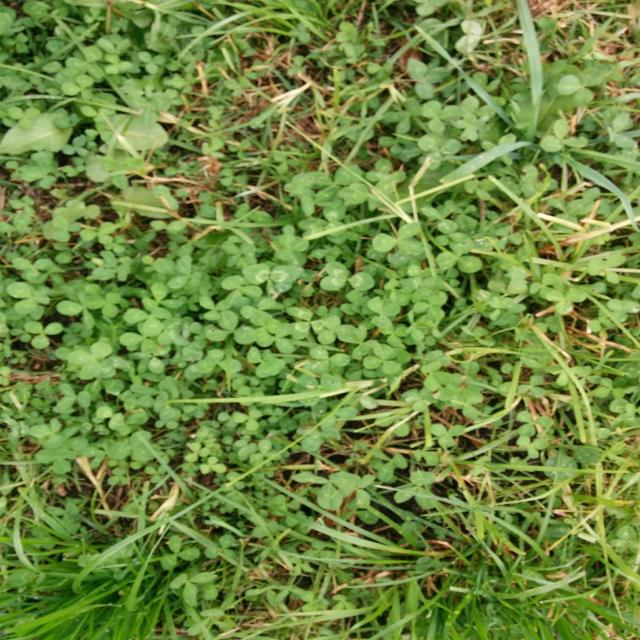Four Leaf Clover: (247, 346, 286, 378)
